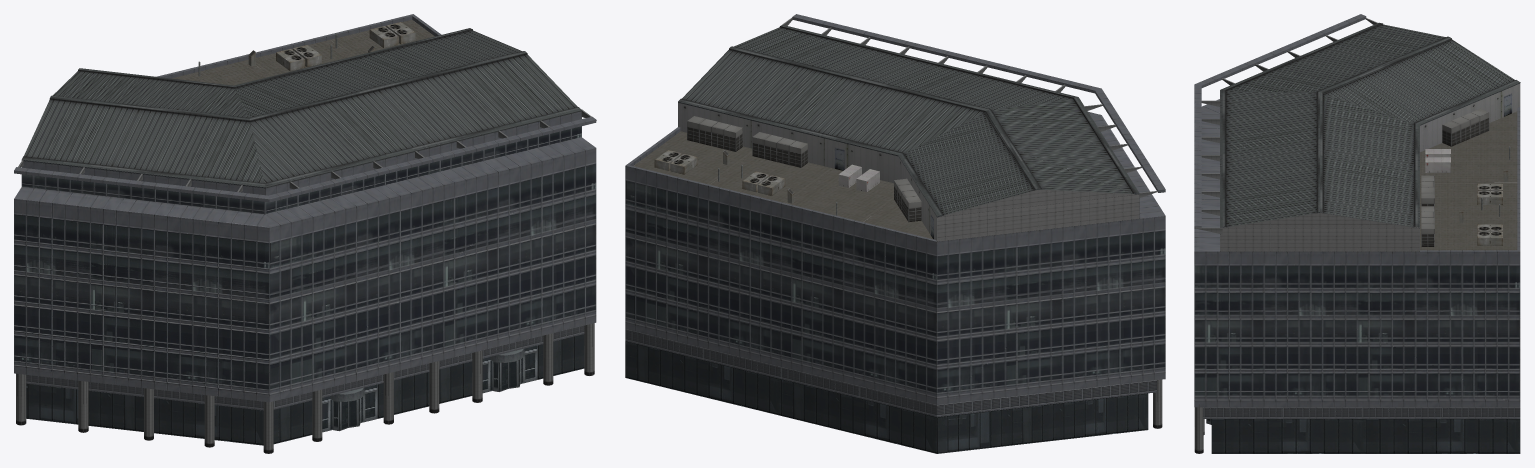
Rendered from AIT01W2W1.FBX.
The picture shows the model from 3 angles, left to right: view 1: azimuth 30°, elevation 25°; view 2: azimuth 150°, elevation 25°; view 3: azimuth 270°, elevation 25°; orthographic projection. The views are drawn at different scales.
Visible parts, largest first — view 1: AIT01W2W1; view 2: AIT01W2W1; view 3: AIT01W2W1.
Part boxes in pixels (x1,y1,x2,y2): AIT01W2W1: [14, 14, 596, 453]; AIT01W2W1: [625, 14, 1165, 453]; AIT01W2W1: [1194, 14, 1520, 453].
Size of the model in its own units: 4698 by 2490 by 3041.
Materials: 1 (1 with a texture image).
